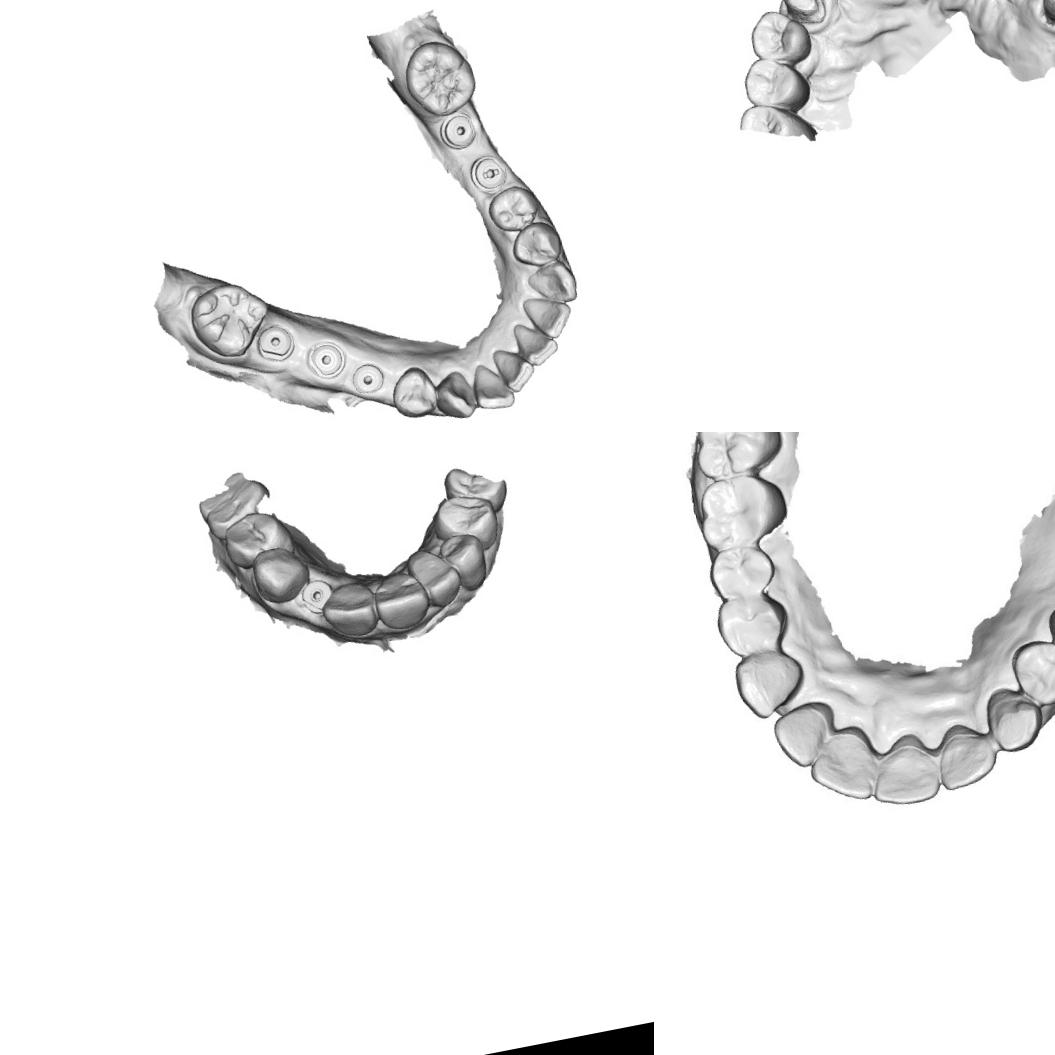canine: (728, 644, 812, 724), (980, 680, 1048, 758), (246, 540, 312, 608), (436, 528, 492, 595), (522, 256, 582, 311), (430, 366, 478, 423)
crown: (777, 0, 827, 29)
implant: (253, 318, 297, 362), (438, 110, 479, 152), (307, 338, 347, 381), (297, 575, 336, 618), (348, 358, 388, 398)
implant_minus: (467, 150, 512, 197)
incisor: (800, 722, 886, 810), (862, 727, 944, 812), (927, 714, 1002, 794), (768, 696, 842, 774), (403, 542, 467, 613), (317, 576, 381, 644), (369, 566, 433, 632), (518, 286, 576, 344), (465, 356, 516, 414), (509, 316, 560, 370), (488, 342, 536, 398)
molar: (690, 466, 792, 554), (180, 271, 274, 365), (396, 32, 480, 122), (191, 464, 278, 543), (686, 432, 791, 485)
premolar: (736, 48, 814, 122), (713, 589, 790, 662), (426, 488, 504, 558), (743, 1, 816, 72), (704, 542, 780, 603), (216, 512, 292, 570), (1006, 631, 1055, 711), (439, 457, 510, 512), (484, 180, 548, 238), (385, 362, 441, 425), (506, 216, 568, 271)
